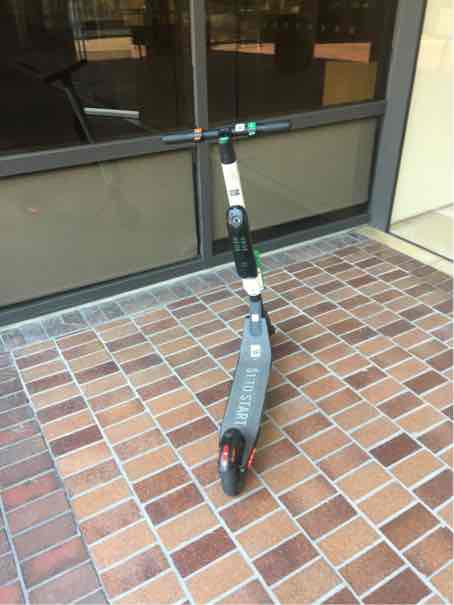scooter: (143, 110, 315, 518)
